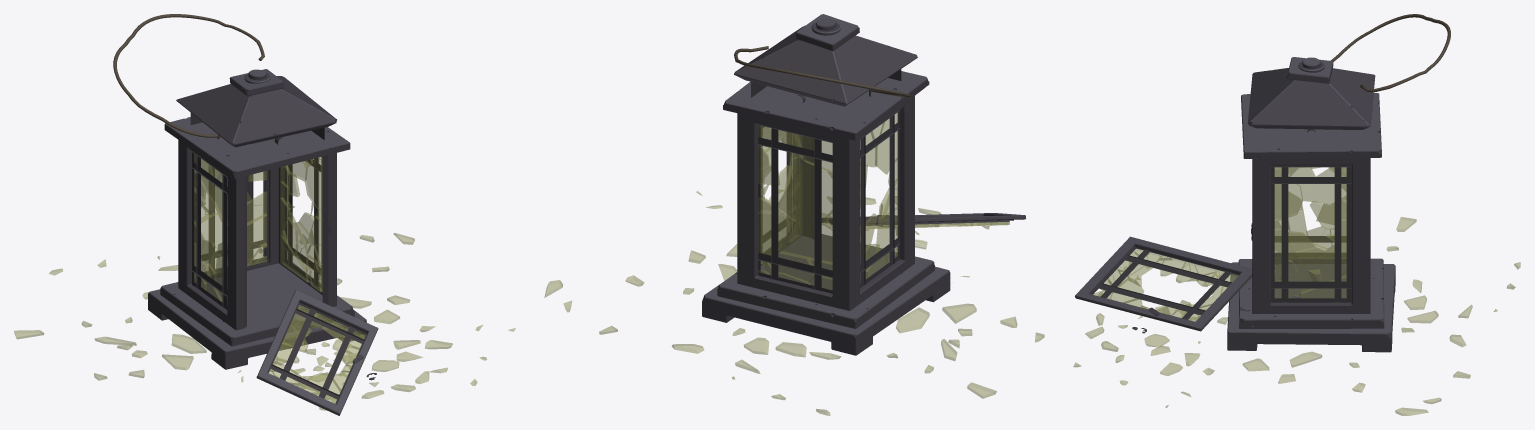
File: broken_lantern.glb
3 views of the same model, side by side, from view 1: azimuth 30°, elevation 25°; view 2: azimuth 150°, elevation 25°; view 3: azimuth 270°, elevation 25° (orthographic). The views are drawn at different scales.
Visible parts, largest first — view 1: Cube.058_1, Cube.061_4, Cube.057_0, Cube.059_2, Cube.062_5, Cube.064_9, Circle.014_28, Cube.063_6, Cube.113_cell.009_402, Cube.090_46, Cube.112_cell.004_293, Cube.112_cell.002_292 (+11 smaller); view 2: Cube.058_1, Cube.061_4, Cube.057_0, Cube.059_2, Cube.062_5, Cube.112_cell.002_292, Cube.112_cell.004_293, Cube.064_9, Cube.080_36, Cube.081_37, Cube.063_6, Circle.014_28 (+10 smaller); view 3: Cube.058_1, Cube.061_4, Cube.057_0, Cube.059_2, Cube.062_5, Cube.064_9, Circle.014_28, Cube.076_32, Cube.078_34, Cube.113_cell.012_403, Cube.093_49, Cube.113_cell.009_402 (+12 smaller).
Boxes of the visible parts, x1,y1,x2,y2 form: Cube.058_1: (178,140,336,330); Cube.061_4: (176,76,336,147); Cube.057_0: (160,263,354,346); Cube.059_2: (164,117,350,178); Cube.062_5: (148,263,366,369); Cube.064_9: (256,290,378,415); Circle.014_28: (113,14,264,137); Cube.063_6: (229,69,284,96); Cube.113_cell.009_402: (304,159,322,210); Cube.090_46: (263,170,270,261); Cube.112_cell.004_293: (201,213,247,249); Cube.112_cell.002_292: (201,167,252,215); Cube.058_1: (737,96,914,310); Cube.061_4: (734,25,917,106); Cube.057_0: (717,234,934,328); Cube.059_2: (723,71,929,140); Cube.062_5: (702,266,950,355); Cube.112_cell.002_292: (778,160,832,222); Cube.112_cell.004_293: (779,221,832,264); Cube.064_9: (821,213,1025,225); Cube.080_36: (814,137,821,290); Cube.081_37: (771,127,778,280); Cube.063_6: (795,14,859,51); Circle.014_28: (734,46,910,97); Cube.058_1: (1252,158,1370,313); Cube.061_4: (1247,68,1375,129); Cube.057_0: (1238,258,1384,328); Cube.059_2: (1241,93,1381,158); Cube.062_5: (1227,262,1395,352); Cube.064_9: (1075,236,1252,331); Circle.014_28: (1330,14,1450,92); Cube.076_32: (1281,167,1288,302); Cube.078_34: (1334,167,1341,302); Cube.113_cell.012_403: (1300,168,1346,204); Cube.093_49: (1346,164,1351,302); Cube.113_cell.009_402: (1274,168,1302,220).
Size of the model in its own units: 6.26 by 4.05 by 5.99.
